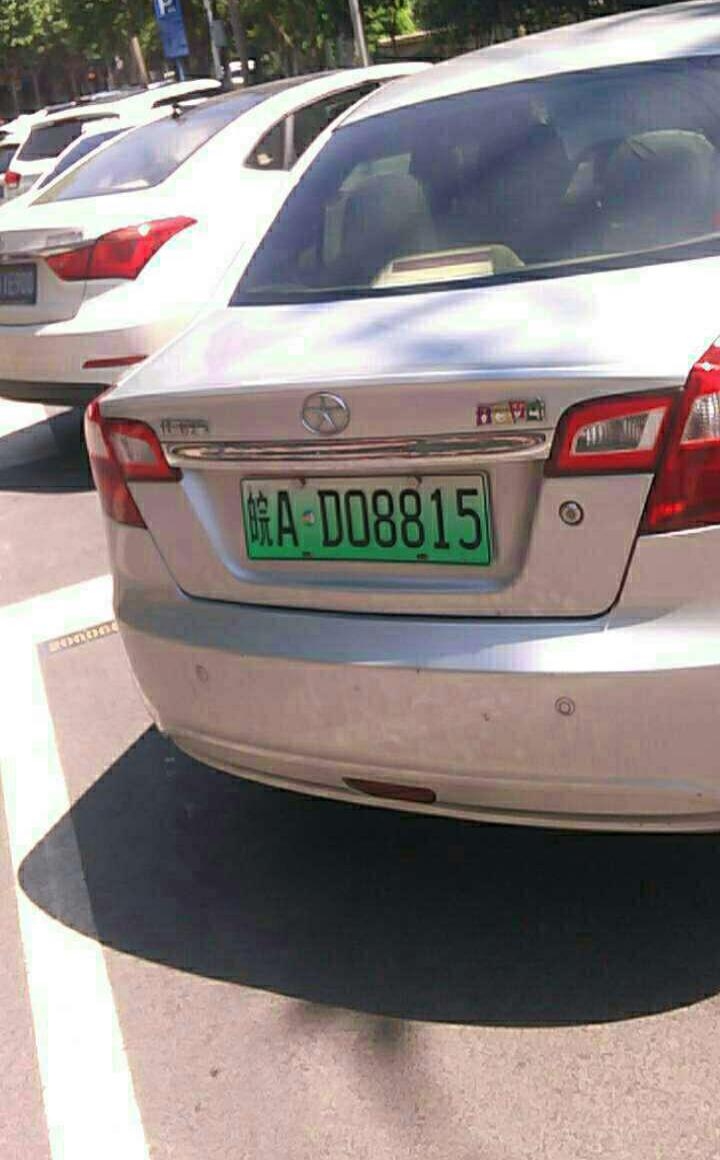car: (237, 477, 496, 561)
